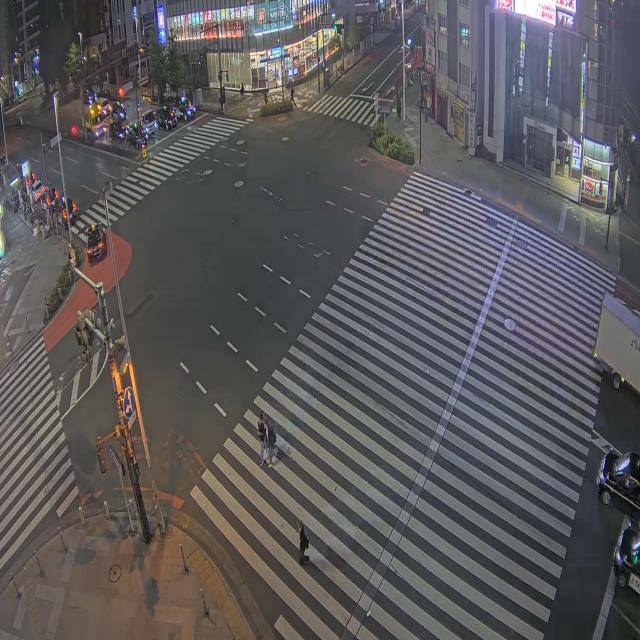car: (597, 451, 639, 508), (613, 526, 639, 593), (86, 224, 105, 261), (56, 196, 78, 225), (126, 123, 148, 148), (156, 105, 177, 130), (174, 96, 195, 120), (109, 121, 126, 141), (61, 195, 78, 215), (54, 203, 67, 227), (32, 180, 46, 202), (111, 101, 126, 121), (97, 97, 110, 116), (85, 89, 97, 104)
truck: (594, 294, 639, 391), (140, 109, 158, 135)
